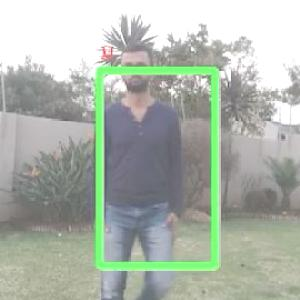follow: (84, 38, 180, 299)
